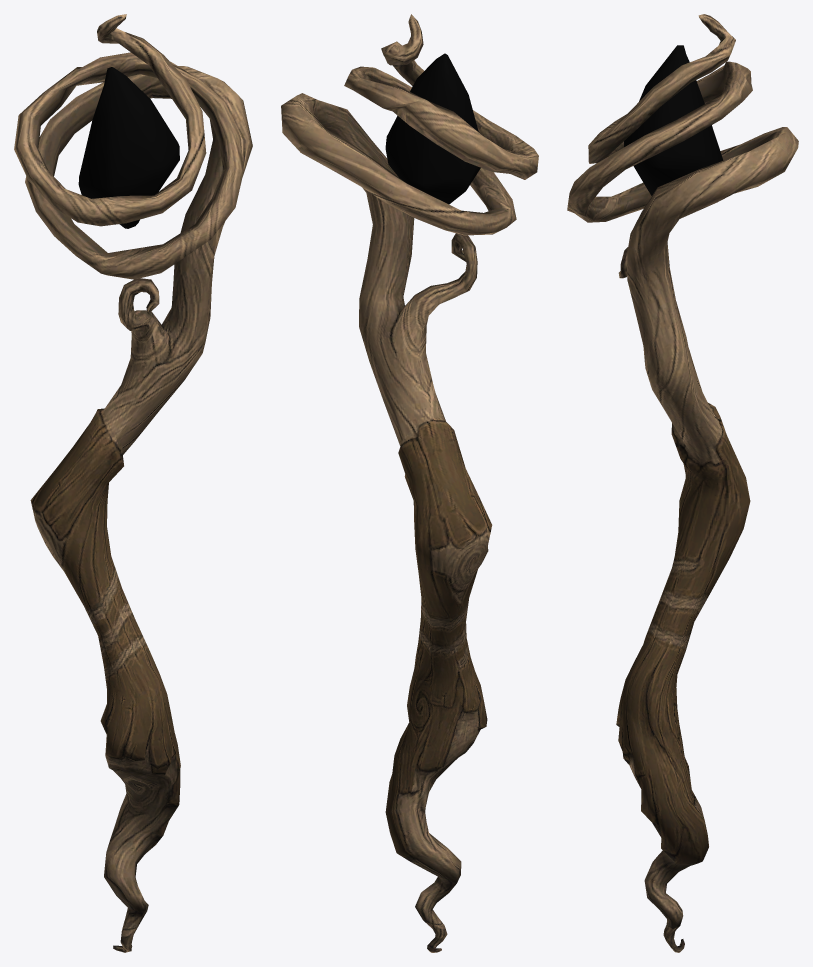
The model's file is torch.fbx.
The picture shows the model from 3 angles, left to right: view 1: azimuth 30°, elevation 25°; view 2: azimuth 150°, elevation 25°; view 3: azimuth 270°, elevation 25°; orthographic projection.
Parts seen in each view (by area): view 1: node_id30; view 2: node_id30; view 3: node_id30.
Part boxes in pixels (bbox=[...]): node_id30: bbox=[14, 14, 252, 952]; node_id30: bbox=[281, 14, 538, 952]; node_id30: bbox=[567, 14, 798, 952].
Bounding box in the file's own units: 0.1293 × 0.5088 × 0.1135.
1 material, 1 textured.
